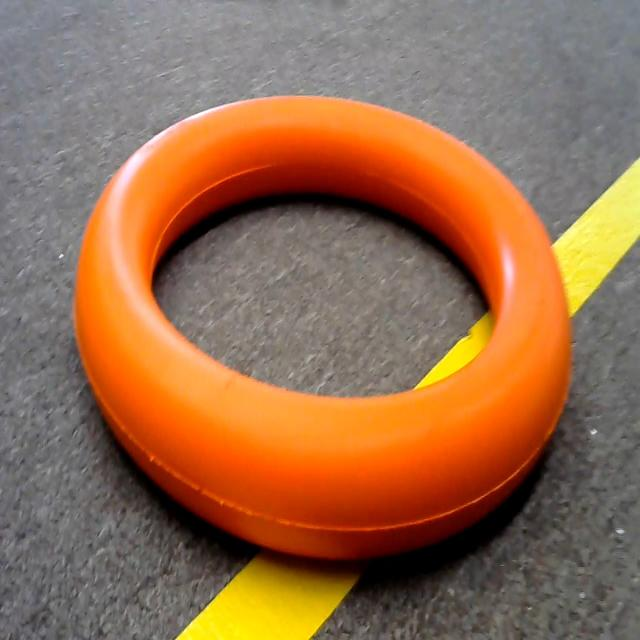note: (57, 52, 593, 566)
